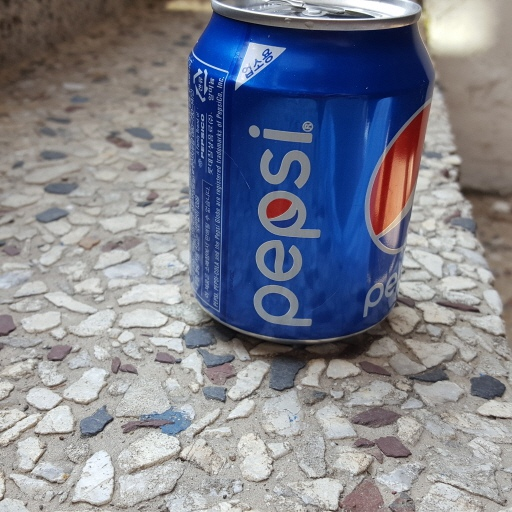Metal_0: (187, 1, 439, 341)
